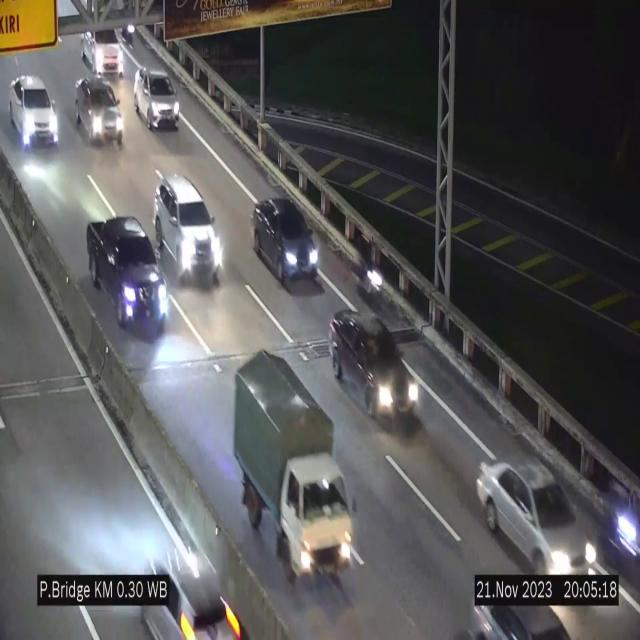Car: (478, 452, 596, 576), (329, 308, 418, 424), (85, 218, 169, 338), (154, 177, 223, 283), (253, 198, 322, 289), (70, 74, 124, 148), (10, 75, 59, 146), (134, 66, 180, 128)
Motorcycle: (605, 481, 640, 569), (357, 233, 389, 312)
Truck: (230, 348, 360, 584)
